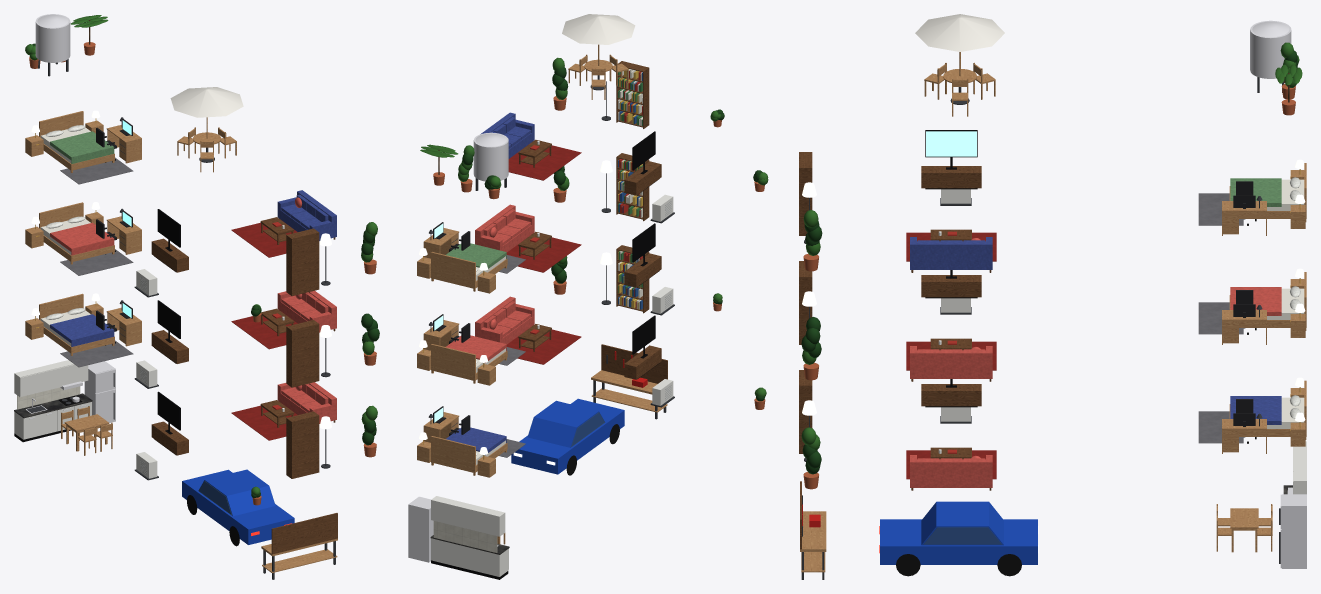
The model's file is i_tw_townhouse.gltf.
3 renders of one model, left to right at view 1: azimuth 30°, elevation 25°; view 2: azimuth 150°, elevation 25°; view 3: azimuth 270°, elevation 25°, orthographic. The views are drawn at different scales.
Visible parts, largest first — view 1: I_tw_townhouse; view 2: I_tw_townhouse; view 3: I_tw_townhouse.
Boxes of the visible parts, x1,y1,x2,y2 form: I_tw_townhouse: (14, 14, 379, 579); I_tw_townhouse: (408, 14, 724, 579); I_tw_townhouse: (753, 14, 1306, 579).
Size of the model in its own units: 6.46 by 15.45 by 14.74.
38 materials, 12 textured.
